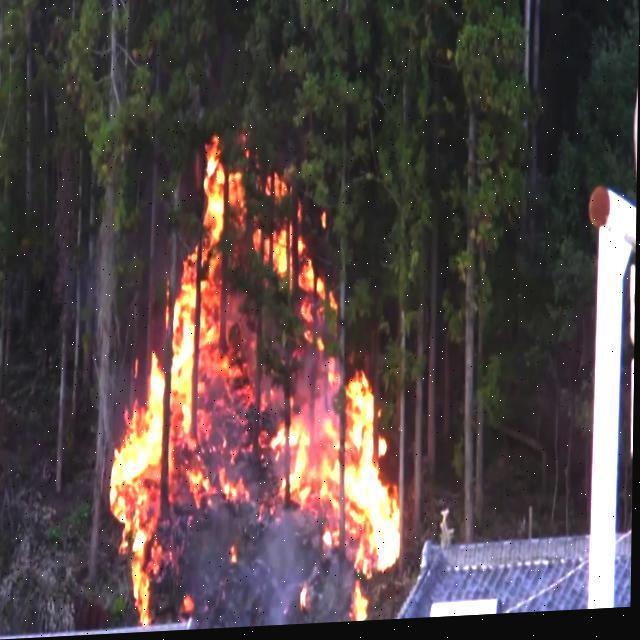Fire: (110, 134, 228, 628), (264, 358, 404, 586), (229, 140, 341, 358), (220, 469, 251, 506), (352, 584, 373, 624)
